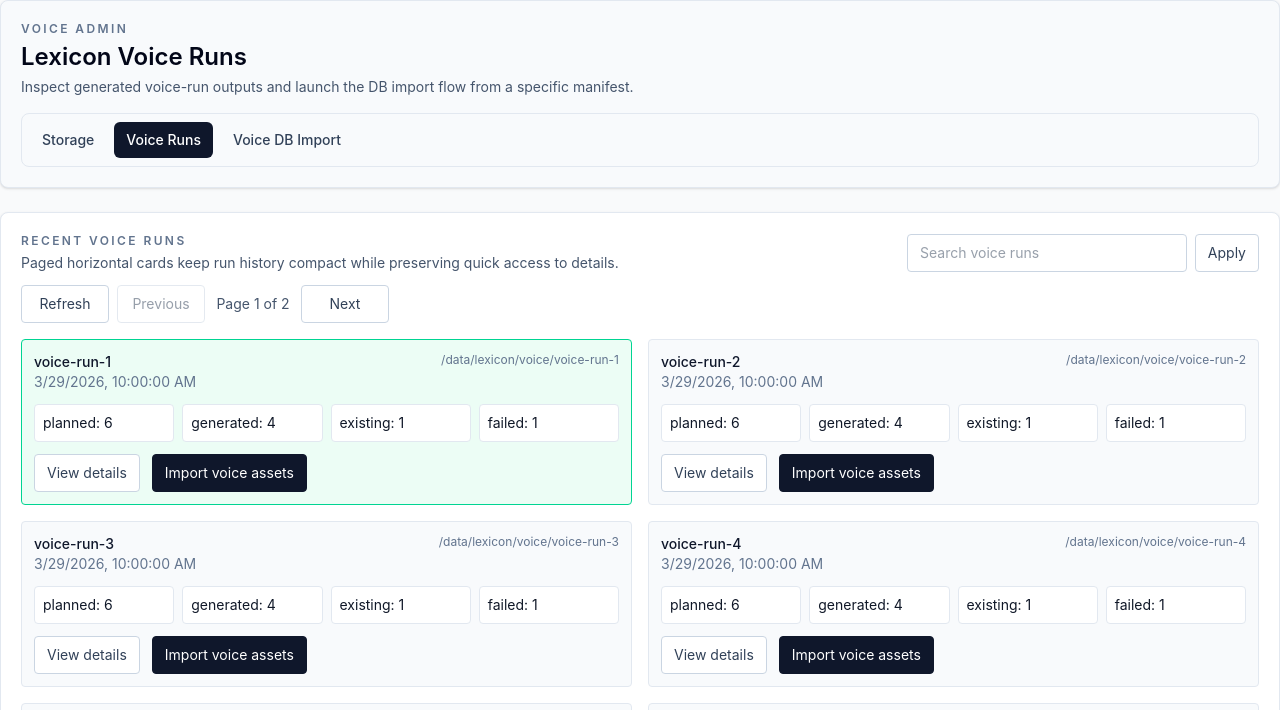
Test: LexiconVoiceRunsPage › pages recent voice runs horizontally
Check: the element with test id "lexicon-voice-runs" shows "voice-run-1", box [34,353,111,370]
Check: the element with test id "lexicon-voice-run-pagination" shows "Page 1 of 2", box [21,285,389,323]
Click the button "Next".
click(345, 304)  # box [301,285,389,323]
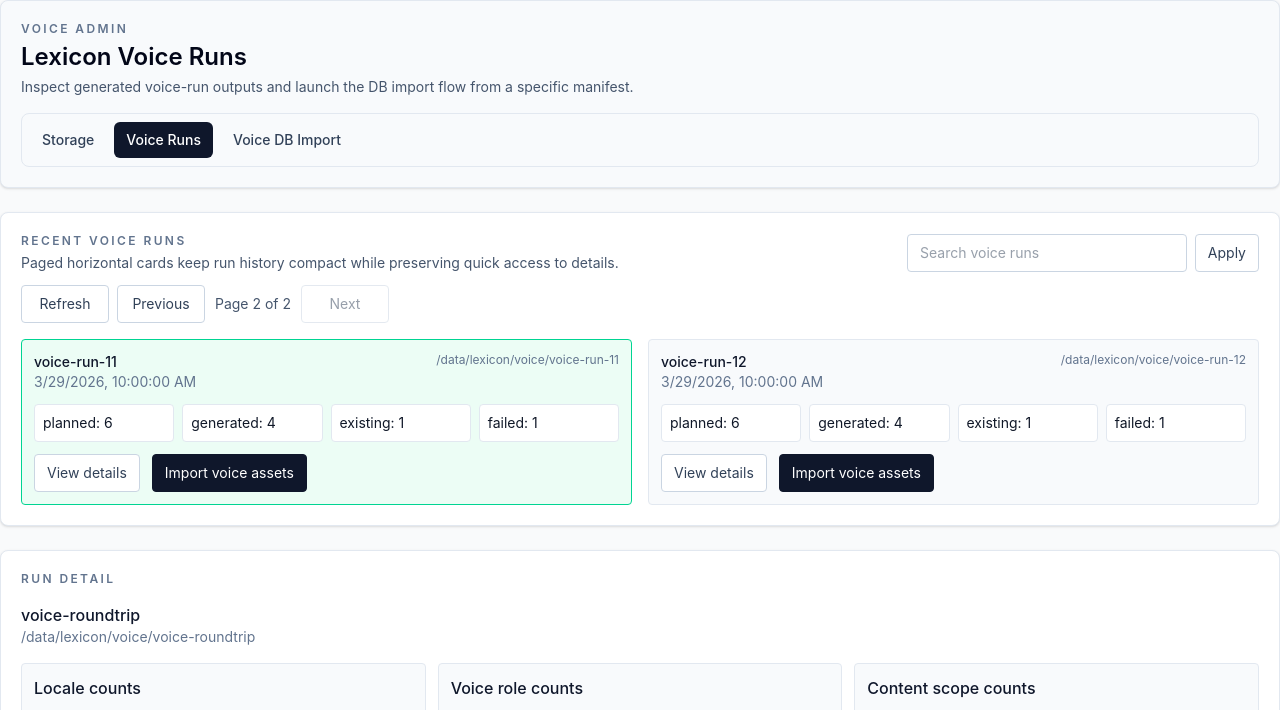
Check: the element with test id "lexicon-voice-run-pagination" shows "Page 2 of 2", box [21,285,389,323]
Check: the element with test id "lexicon-voice-run-page" shows "voice-run-11", box [34,353,117,370]
Check: the element with test id "lexicon-voice-run-page" shows "voice-run-12", box [661,353,747,370]
